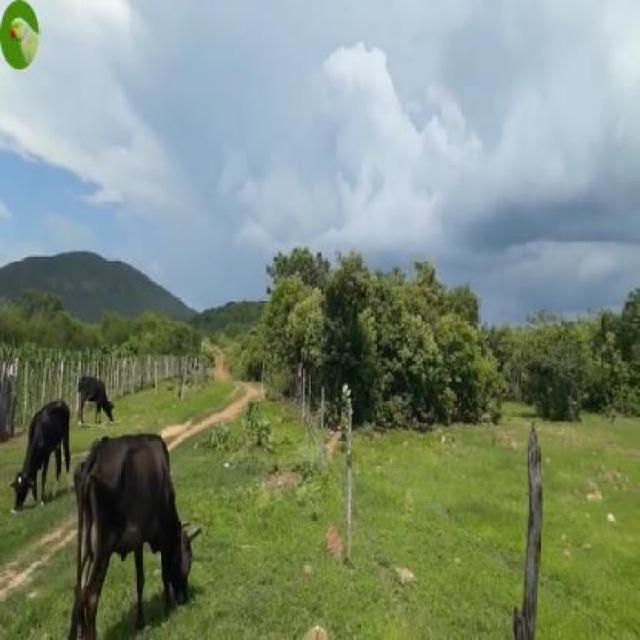Cow: (74, 432, 195, 638)
